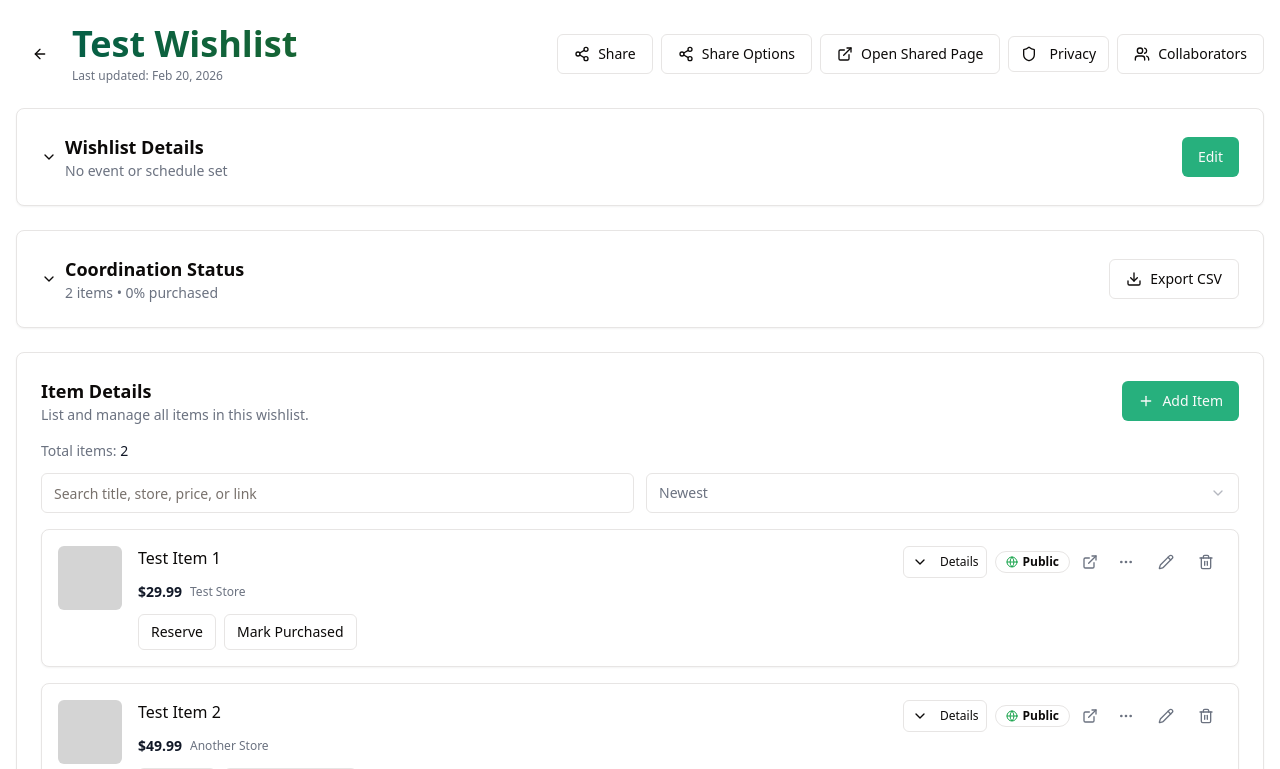
WishlistDetail Item CRUD › shows share options dialog with social channel links
Step 1. Click the button with test id "wishlist-detail-share-options" → (736, 54), box x1=661 y1=34 x2=812 y2=74
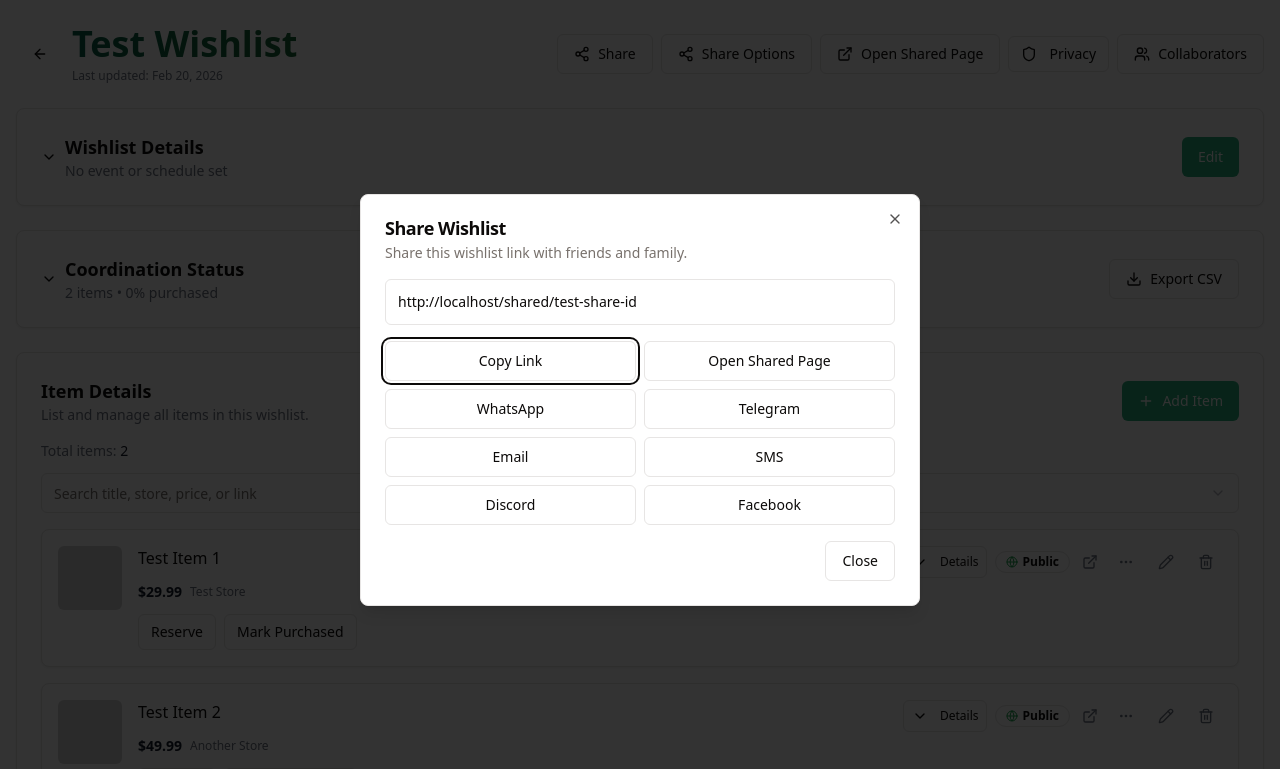
Check: the heading "Share Wishlist" is shown, box x1=385 y1=216 x2=506 y2=240
